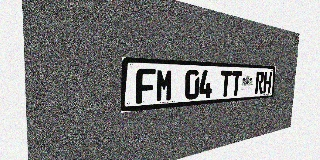0: (184, 69, 200, 100)
4: (199, 70, 213, 99)
F: (136, 68, 156, 104)
H: (263, 72, 272, 93)
M: (155, 69, 173, 102)
R: (255, 71, 264, 94)
T: (220, 70, 232, 97), (231, 71, 242, 96)
